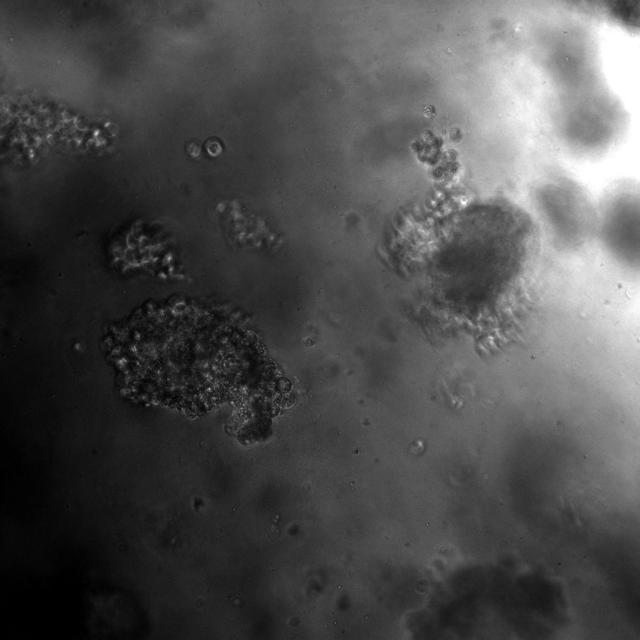organoid: (379, 130, 535, 354), (98, 291, 297, 450), (407, 560, 568, 639), (0, 96, 116, 167), (107, 220, 184, 280), (216, 199, 281, 250), (186, 137, 224, 159), (422, 105, 436, 118), (449, 128, 461, 142)
